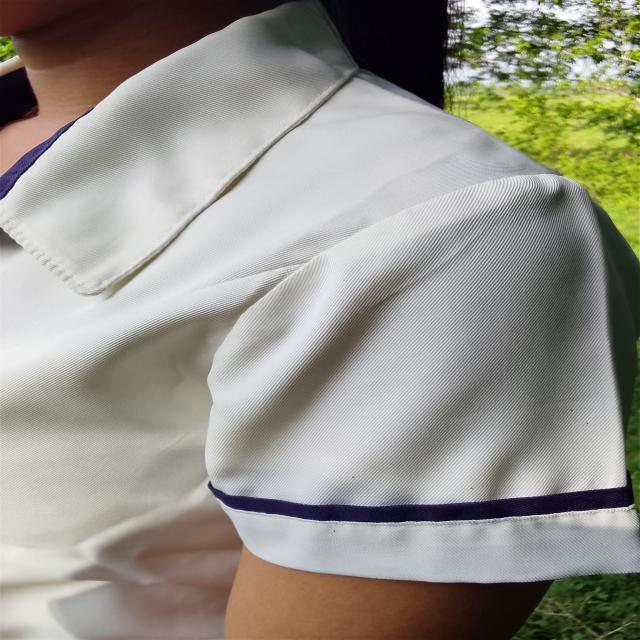education_female_uniform: (0, 2, 640, 619)
